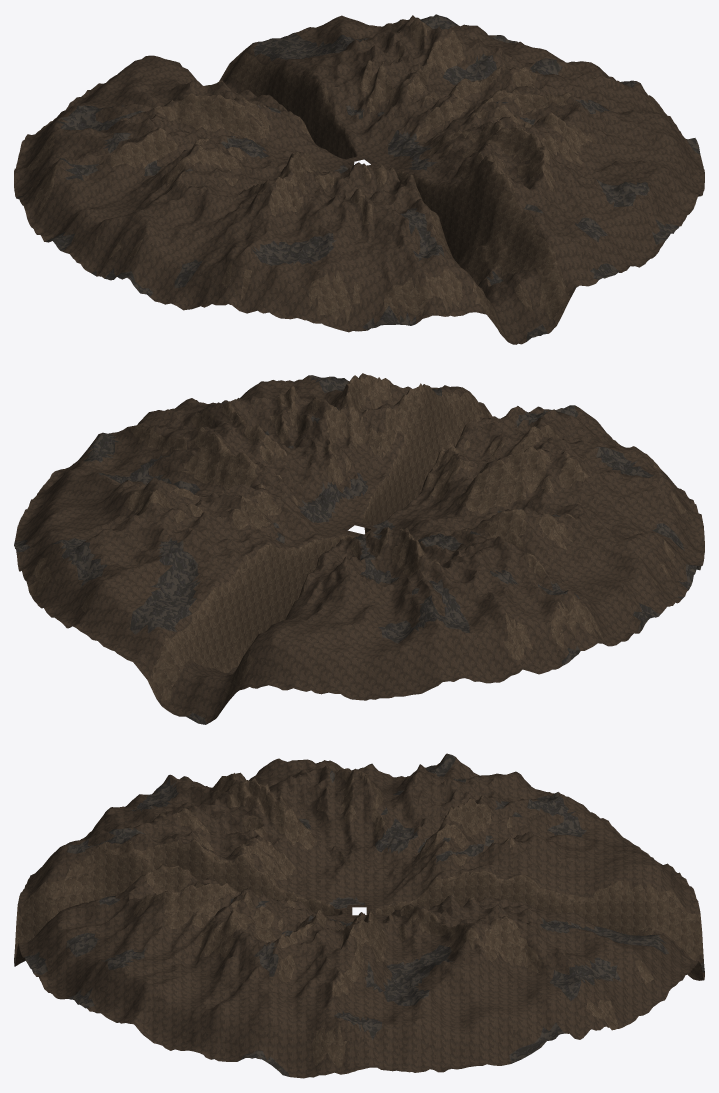
The model's file is backdrop_near_rect_s22x18_dead.glb.
The picture shows the model from 3 angles, top to bottom: view 1: azimuth 30°, elevation 25°; view 2: azimuth 150°, elevation 25°; view 3: azimuth 270°, elevation 25°; orthographic projection.
Parts seen in each view (by area): view 1: near_land_S, near_land_W, near_land_E, near_land_N; view 2: near_land_N, near_land_W, near_land_E, near_land_S; view 3: near_land_E, near_land_S, near_land_N, near_land_W.
Boxes of the visible parts, x1=… form: near_land_S: x1=269, y1=115, x2=693, y2=344; near_land_W: x1=14, y1=93, x2=348, y2=313; near_land_E: x1=363, y1=15, x2=704, y2=210; near_land_N: x1=26, y1=14, x2=440, y2=166; near_land_N: x1=26, y1=495, x2=451, y2=724; near_land_W: x1=373, y1=446, x2=704, y2=683; near_land_E: x1=14, y1=380, x2=357, y2=580; near_land_S: x1=277, y1=373, x2=688, y2=533; near_land_E: x1=116, y1=892, x2=603, y2=1078; near_land_S: x1=14, y1=794, x2=348, y2=1022; near_land_N: x1=372, y1=798, x2=704, y2=1030; near_land_W: x1=139, y1=753, x2=602, y2=906.
Size of the model in its own units: 576 by 168 by 576.
Materials: 3 (3 with a texture image).
